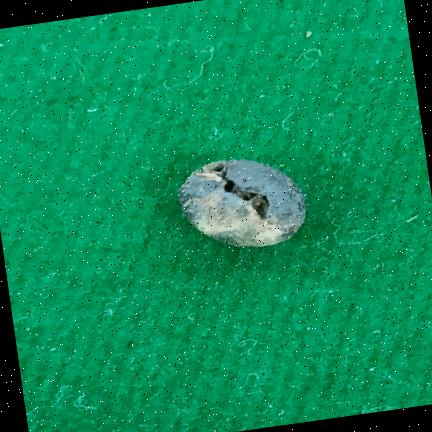partial-black: (178, 159, 305, 246), (251, 194, 269, 217)
